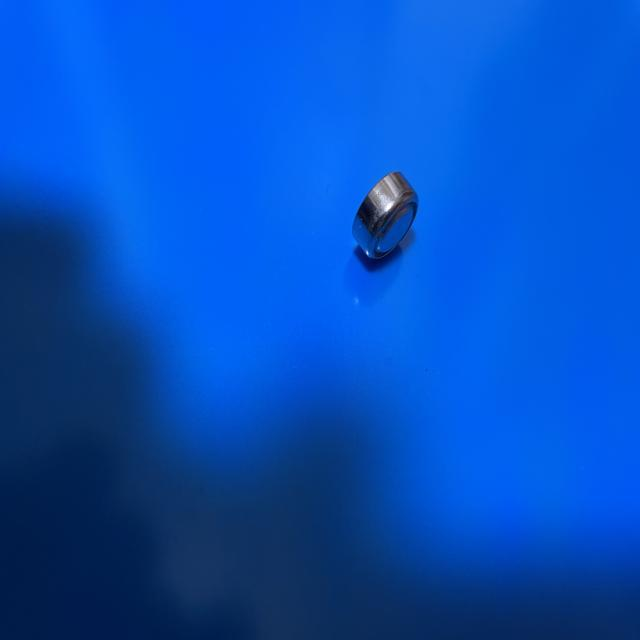COIN: (351, 172, 418, 262)
